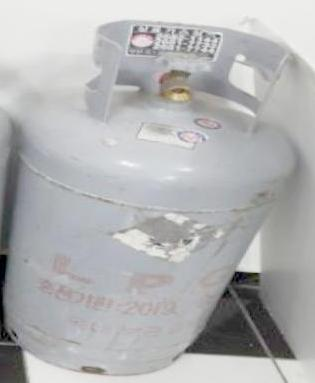cylinder: (0, 1, 315, 383)
